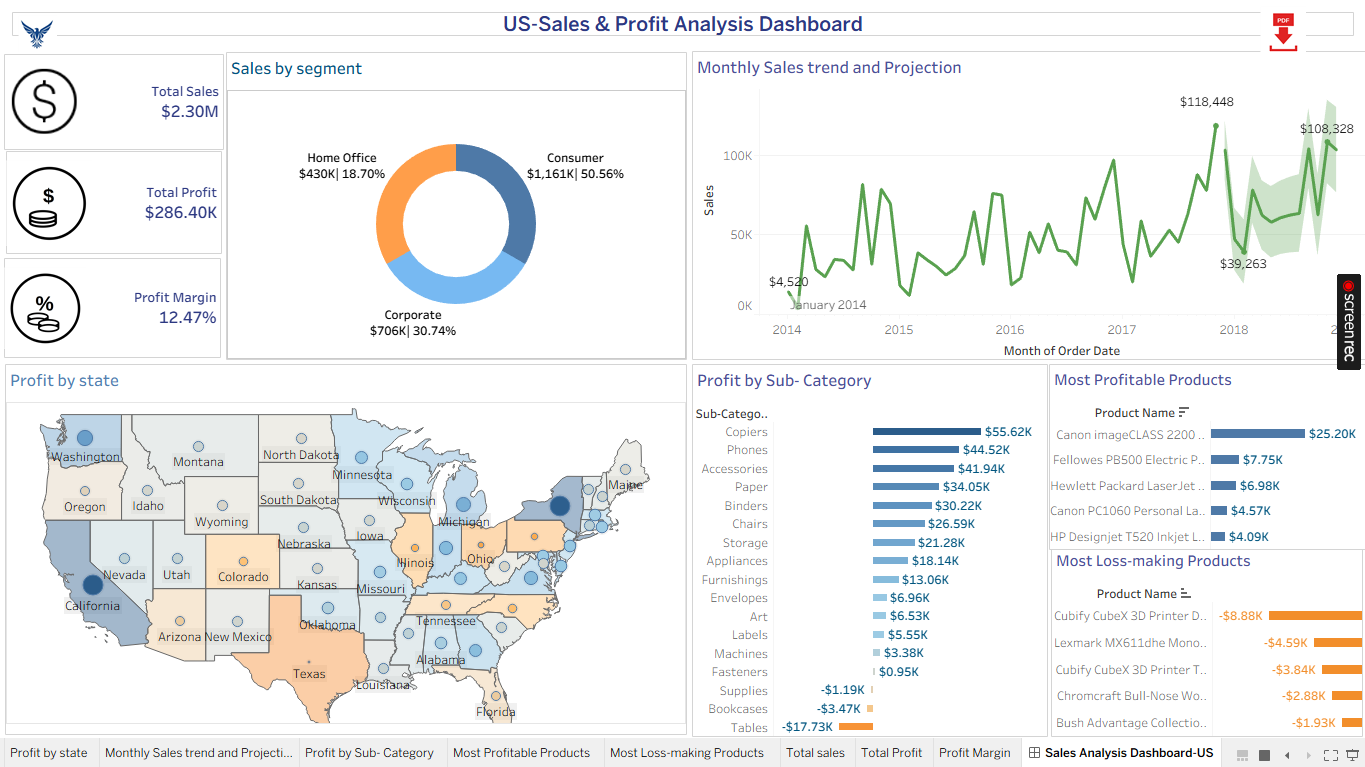

What the dashboard file says about the page in this screenshot:
{"tool":"tableau","page":{"name":"Sales Analysis Dashboard-US","canvas":[1000,1000],"units":"permille","ordinal":0},"visuals":[{"type":"dashboard-object","box":[892.5,8.4,94.6,62.5]},{"type":"title","box":[6.9,13.5,986.1,54.1]},{"type":"image","param":"C:/Users/Payal Tawre/Downloads/image_f79ba0b.png","box":[12.9,20.3,53.3,50.7]},{"type":"worksheet","title":"Monthly Sales trend and Projection","mark":"Line","rows":["Sales"],"cols":["Order Date"],"box":[506.5,69.3,493.5,418.9]},{"type":"worksheet","title":"Sales by segment","mark":"Pie","rows":["Calculation_0730945389285377","Calculation_0730945389285377"],"box":[165.4,71,337.7,417.2]},{"type":"worksheet","title":"Total sales","mark":"Automatic","box":[2.6,72.6,161,130.1]},{"type":"image","param":"C:/Users/Payal Tawre/Downloads/icons8-dollar-50.png","box":[6.9,89.5,55.9,96.3]},{"type":"worksheet","title":"Total Profit","mark":"Automatic","box":[4.4,204.4,158.3,140.2]},{"type":"image","param":"C:/Users/Payal Tawre/Downloads/dollar_coin_icon_bw.png","box":[4.3,216.2,78.2,116.5]},{"type":"worksheet","title":"Profit Margin","mark":"Automatic","box":[2.6,349.7,159.1,135.1]},{"type":"image","param":"C:/Users/Payal Tawre/Downloads/percent_coin_icon_bw.png","box":[2.6,361.5,67.1,111.5]},{"type":"worksheet","title":"Profit by state","mark":"Automatic","box":[3.5,493.2,499.6,503.4]},{"type":"worksheet","title":"Profit by Sub- Category","mark":"Automatic","rows":["Sub-Category"],"cols":["Profit"],"box":[506.5,493.2,260.6,505.1]},{"type":"worksheet","title":"Most Profitable Products","mark":"Automatic","rows":["Product Name"],"cols":["Profit"],"box":[768,493.2,232,251.7]},{"type":"worksheet","title":"Most Loss-making Products ","mark":"Automatic","rows":["Product Name"],"cols":["Profit"],"box":[769.7,738.2,228.6,260.1]}]}

Visuals, with their boxes on the dashboard's canvas, which has no fixed pixel size, in thousandths of its width and height (x1, y1, x2, y2). These are canvas units, not pixel positions in the 1365x767 screenshot, which may show the page scaled, cropped or inside an application window:
dashboard-object: (x1=892, y1=8, x2=987, y2=71)
title: (x1=7, y1=14, x2=993, y2=68)
image: (x1=13, y1=20, x2=66, y2=71)
"Monthly Sales trend and Projection" worksheet (Line marks): (x1=506, y1=69, x2=1000, y2=488)
"Sales by segment" worksheet (Pie marks): (x1=165, y1=71, x2=503, y2=488)
"Total sales" worksheet: (x1=3, y1=73, x2=164, y2=203)
image: (x1=7, y1=90, x2=63, y2=186)
"Total Profit" worksheet: (x1=4, y1=204, x2=163, y2=345)
image: (x1=4, y1=216, x2=82, y2=333)
"Profit Margin" worksheet: (x1=3, y1=350, x2=162, y2=485)
image: (x1=3, y1=362, x2=70, y2=473)
"Profit by state" worksheet: (x1=4, y1=493, x2=503, y2=997)
"Profit by Sub- Category" worksheet: (x1=506, y1=493, x2=767, y2=998)
"Most Profitable Products" worksheet: (x1=768, y1=493, x2=1000, y2=745)
"Most Loss-making Products " worksheet: (x1=770, y1=738, x2=998, y2=998)
